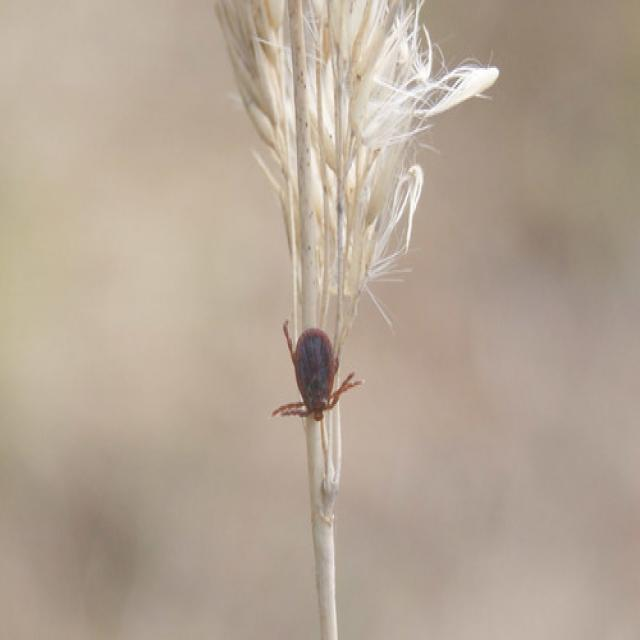Dermacentor Reticulatus-F: (271, 321, 364, 442)
